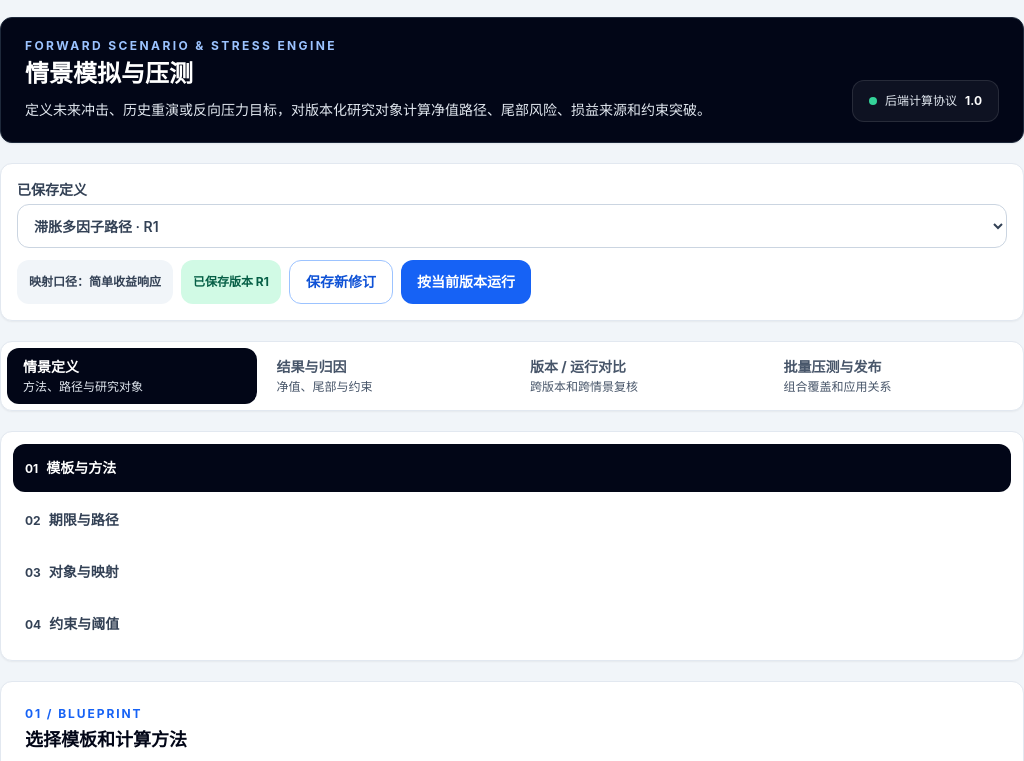
Test case: ScenarioAlgorithmCenter › 权重合计只展示后端固定签名 NJIT 核验结果
The width and height of the screenshot is (1024, 761).
Expected: the heading "情景模拟与压测" is shown, [25,59,193,88]
Click the button "03对象与映射" at (84, 572), box [13,548,1011,596]
(page scrolled)
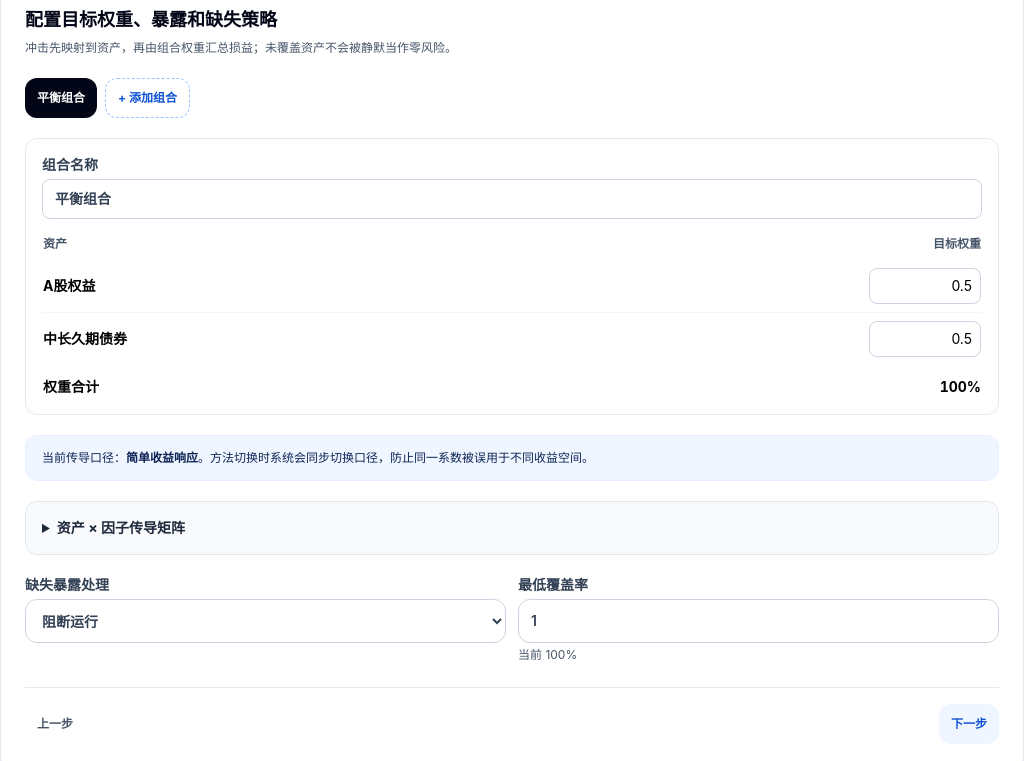
Now the text "权重合计" is shown, box [43,378,99,395]
Now the text "100%" is shown, box [446,365,982,398]
